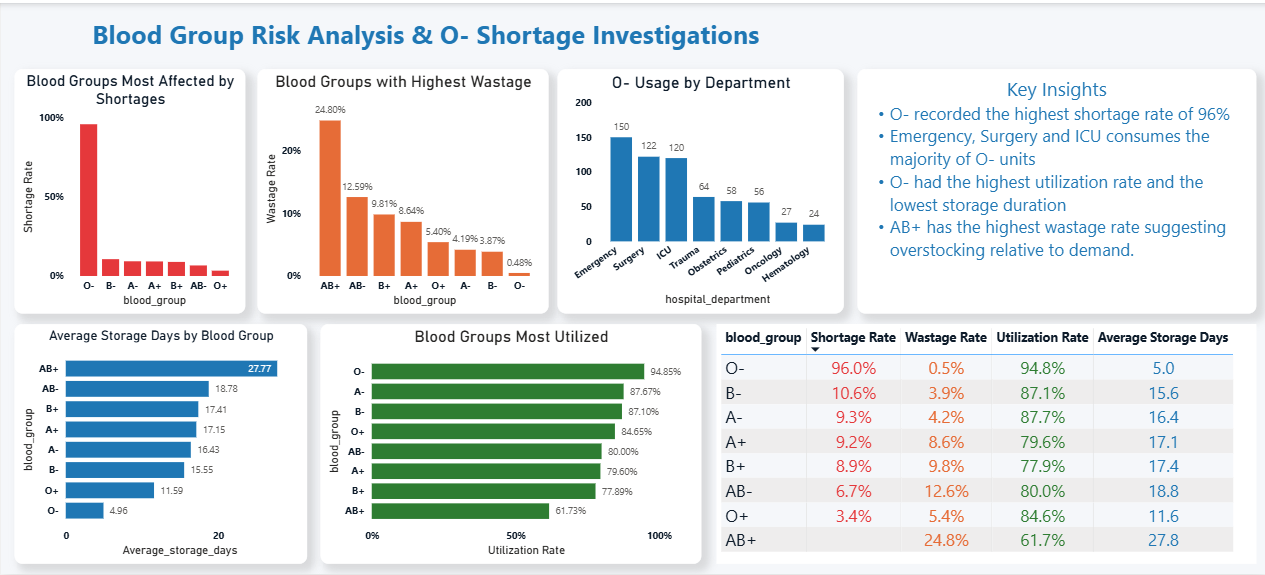

What the dashboard file says about the page in this screenshot:
{"tool":"powerbi","page":{"name":"Blood Group  Risk Analysis","canvas":[1600,720],"ordinal":1},"visuals":[{"type":"clusteredColumnChart","title":"Blood Groups Most Affected by Shortages","fields":{"Category":["blood_bank_inventory_dataset.blood_group"],"Y":["blood_bank_inventory_dataset.Shortage Rate"]},"box":[17,83.3,291.5,308.5],"z":0},{"type":"textbox","box":[30.9,11.4,1011.7,56.9],"z":1000},{"type":"clusteredColumnChart","title":"Blood Groups with Highest Wastage","fields":{"Category":["blood_bank_inventory_dataset.blood_group"],"Y":["blood_bank_inventory_dataset.Wastage Rate"]},"box":[323.7,83.3,367.2,308.5],"z":2000},{"type":"clusteredBarChart","title":"Average Storage Days by Blood Group","fields":{"Category":["blood_bank_inventory_dataset.blood_group"],"Y":["Avg(blood_bank_inventory_dataset.days_in_storage)"]},"box":[16.3,405,369.2,302.5],"z":3000},{"type":"clusteredColumnChart","title":"O- Usage by Department","fields":{"Category":["blood_bank_inventory_dataset.hospital_department"],"Y":["CountNonNull(blood_bank_inventory_dataset.unit_id)"]},"box":[702.2,83.3,361.5,308.5],"z":4000},{"type":"clusteredBarChart","title":"Blood Groups Most Utilized ","fields":{"Category":["blood_bank_inventory_dataset.blood_group"],"Y":["blood_bank_inventory_dataset.Utilization Rate"]},"box":[403.2,405,480.8,302.8],"z":5000},{"type":"textbox","box":[1080.8,83.3,503.5,308.5],"z":6000},{"type":"tableEx","fields":{"Values":["blood_bank_inventory_dataset.blood_group","blood_bank_inventory_dataset.Shortage Rate","blood_bank_inventory_dataset.Wastage Rate","blood_bank_inventory_dataset.Utilization Rate","Avg(blood_bank_inventory_dataset.days_in_storage)"]},"box":[902.8,405,681.4,302.8],"z":7000}]}

Visuals, with their boxes in screenshot pixels (x1, y1, x2, y2), scaled from the page's 1600x720 canvas onto the 1265x575 screenshot:
"Blood Groups Most Affected by Shortages" clusteredColumnChart: [13,67,244,313]
textbox: [24,9,824,55]
"Blood Groups with Highest Wastage" clusteredColumnChart: [256,67,546,313]
"Average Storage Days by Blood Group" clusteredBarChart: [13,323,305,565]
"O- Usage by Department" clusteredColumnChart: [555,67,841,313]
"Blood Groups Most Utilized " clusteredBarChart: [319,323,699,565]
textbox: [855,67,1253,313]
tableEx - blood_bank_inventory_dataset.blood_group x blood_bank_inventory_dataset.Shortage Rate: [714,323,1253,565]
